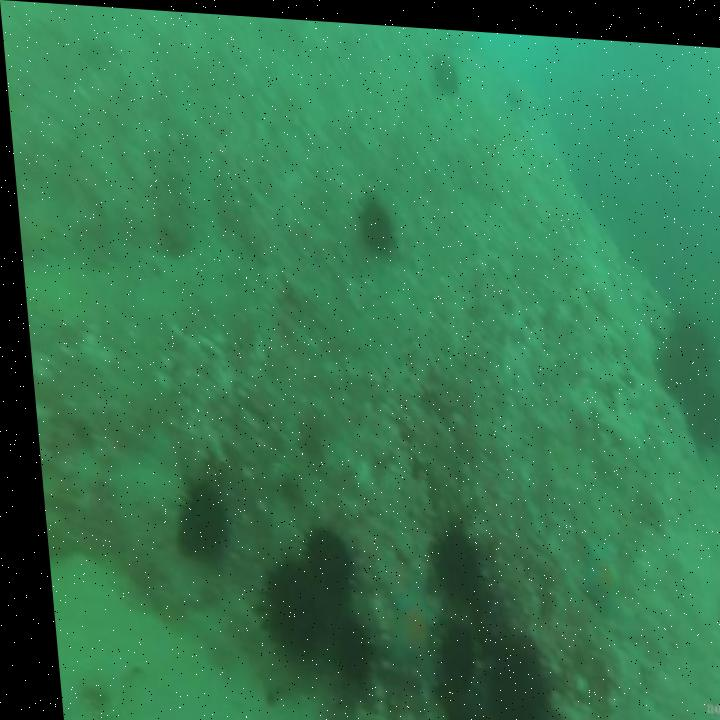echinus: (237, 542, 317, 668), (161, 466, 224, 568), (478, 620, 541, 720), (303, 597, 366, 689), (289, 513, 349, 606), (420, 516, 476, 603), (669, 356, 720, 444), (421, 606, 469, 696), (643, 324, 696, 398), (348, 179, 395, 256), (661, 295, 708, 365), (428, 688, 486, 720), (427, 42, 461, 93)
starfish: (366, 561, 438, 689), (560, 515, 614, 620)
